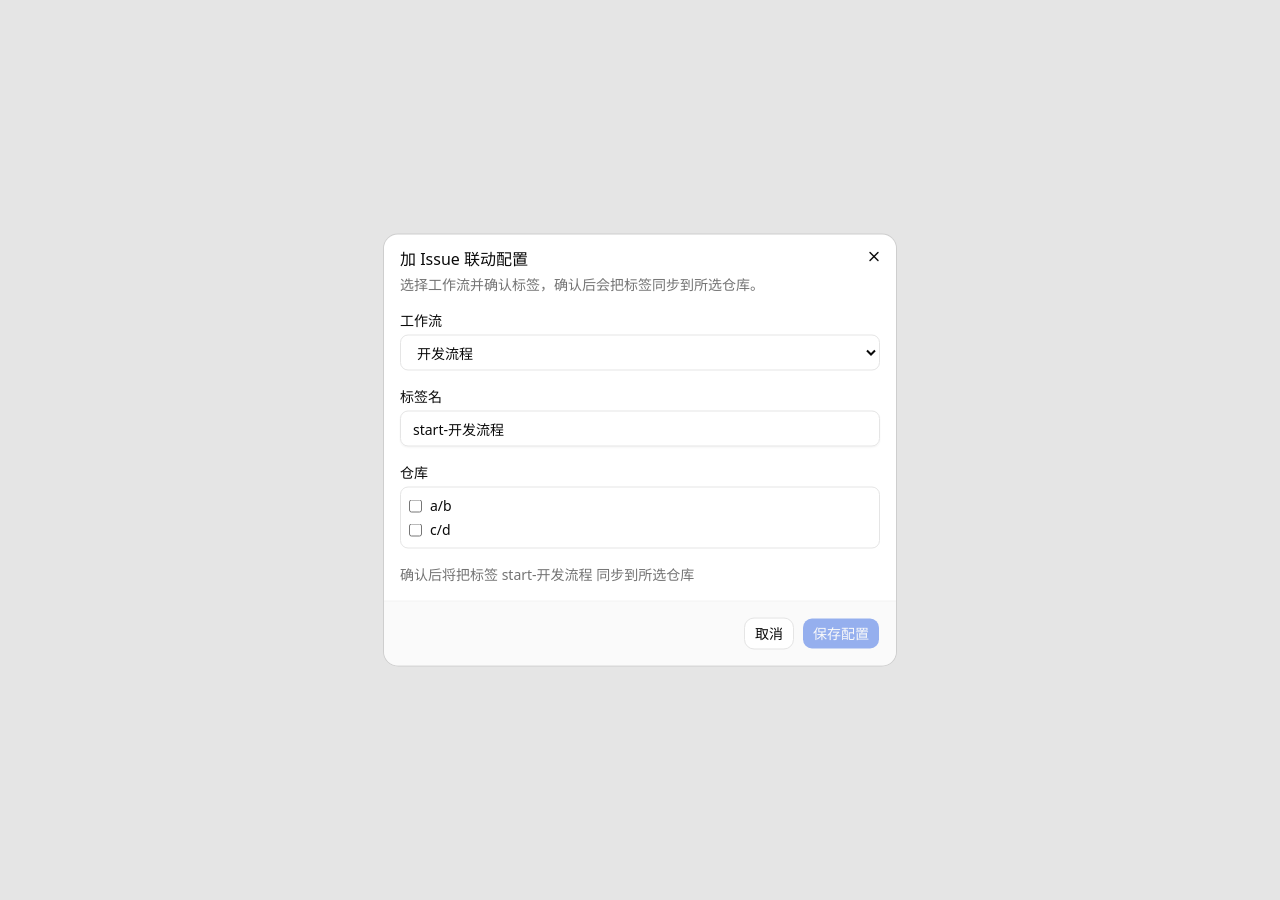
Test: IssuesLinkageDialog › label sync failed 时展示失败仓库并保留弹窗可重试
What coordinates should you click on to do the following:
click the checkbox labelled "c/d"
I would click on:
 (416, 530)
Its box is [409,523,422,536].
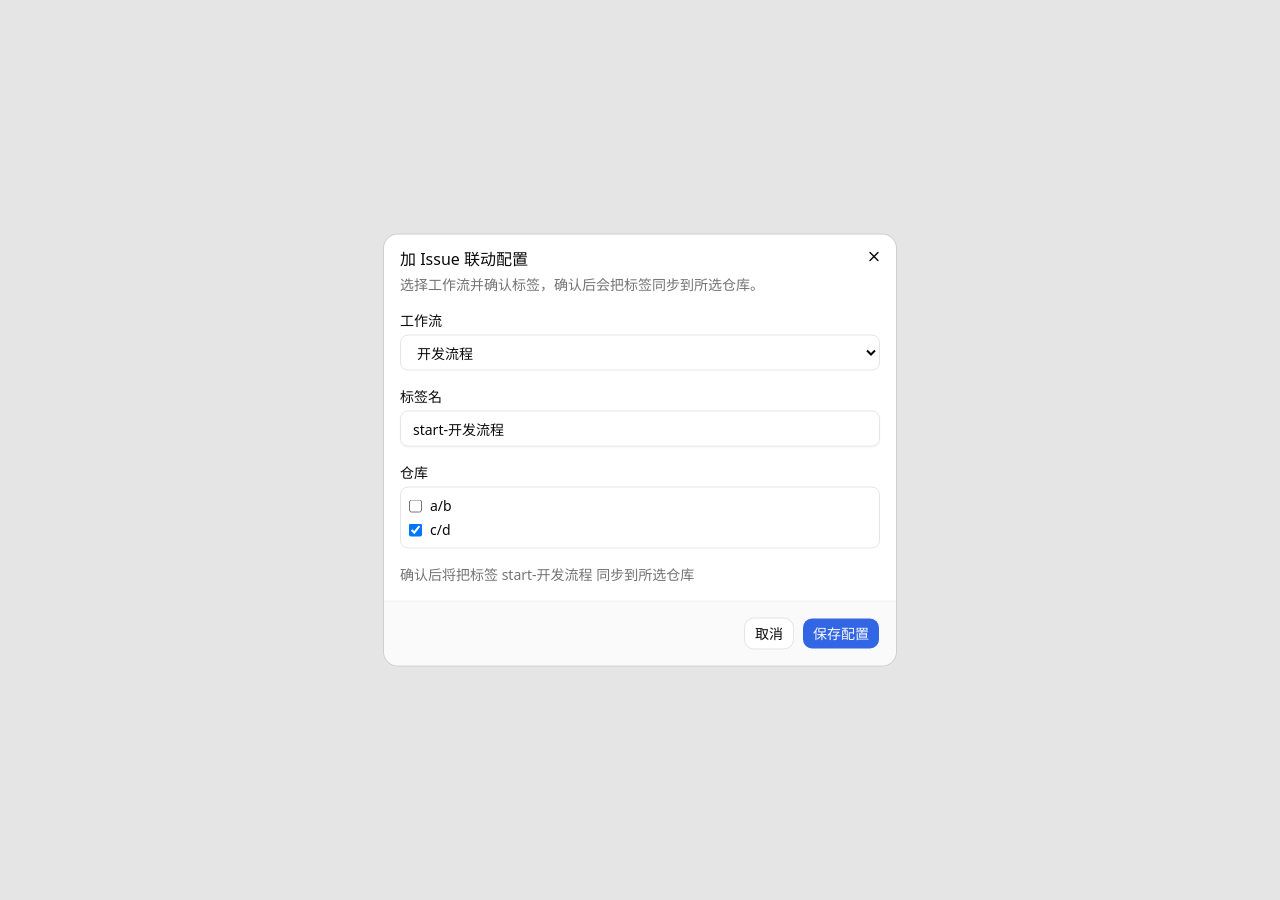
What coordinates should you click on to do the following:
click the button "保存配置"
I would click on:
 (841, 634)
Its box is [802,618,880,650].
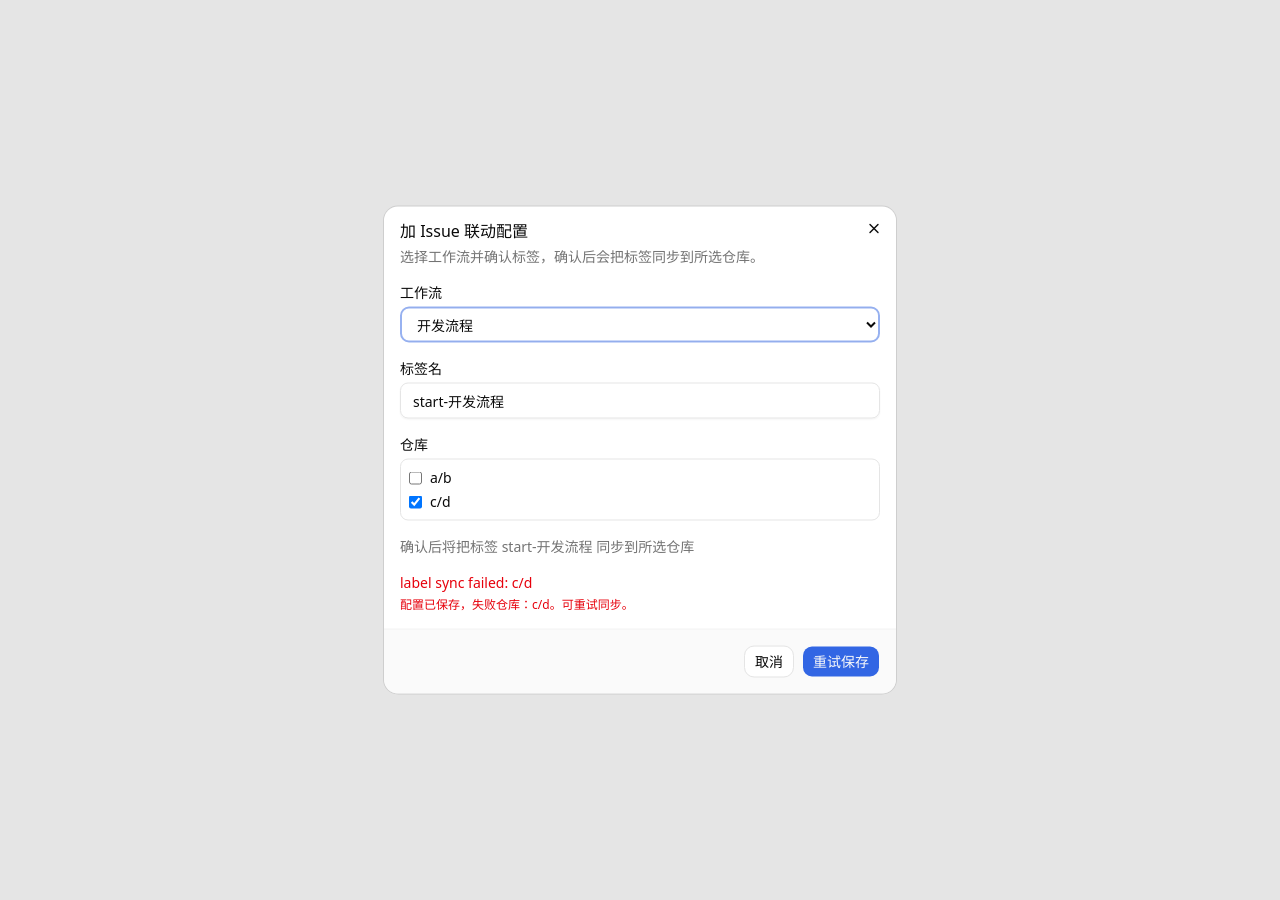
Expected: the message shows "label sync failed: c/d", [400,572,532,592]
Expected: the text "配置已保存，失败仓库：c/d。可重试同步。" is shown, [400,596,634,612]
Expected: the button "重试保存" is shown, [802,646,880,678]
